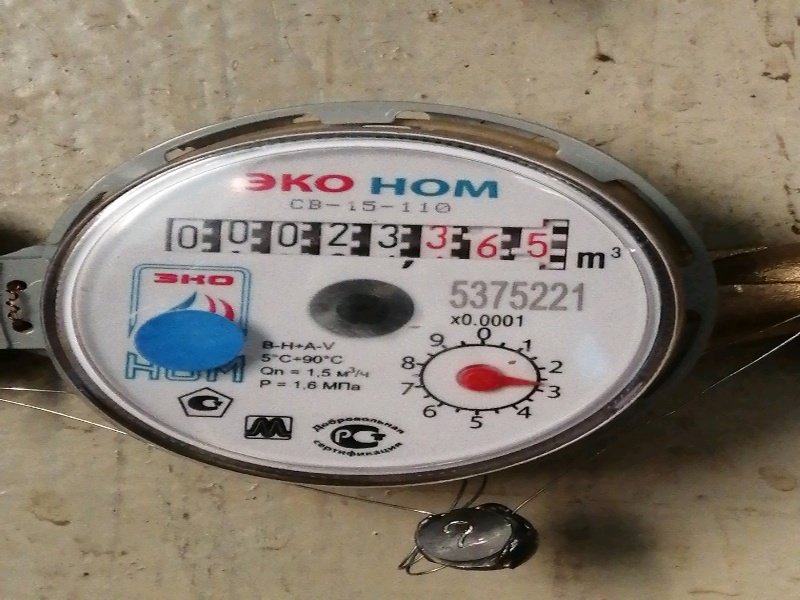meter: (156, 212, 562, 265)
